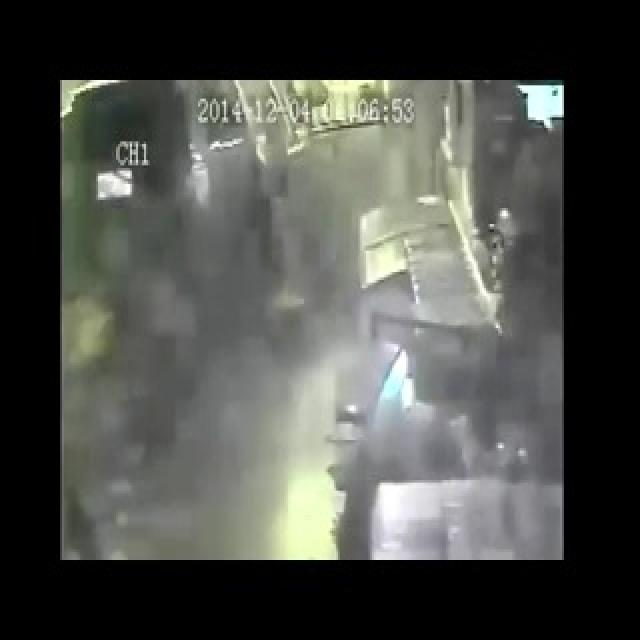burglary: (69, 100, 286, 447)
